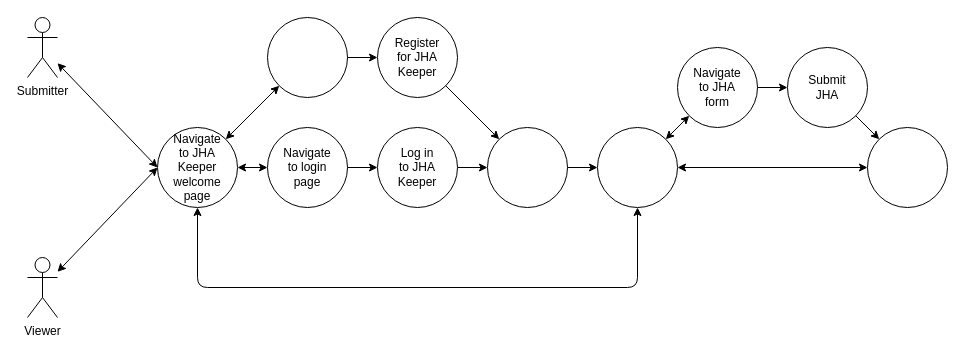
This 965x356 diagram has some shape labels left out. Here are the shapes that lost their labels. From the top down, the centre of each, then its label:
the point at 307,57: Navigate to register page
the point at 527,167: Automatic: Navigate to JHA Keeper home page
the point at 637,167: Automatic: Redirect to page of links to activities
the point at 907,167: View JHA
